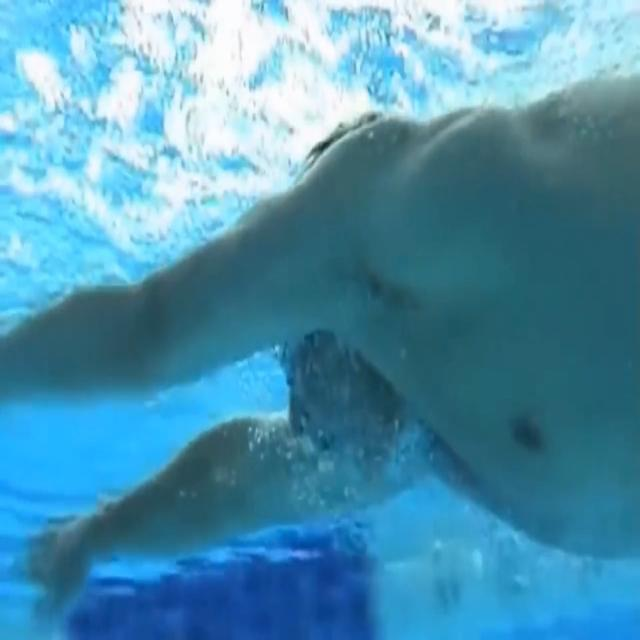Swimming: (246, 74, 640, 569)
